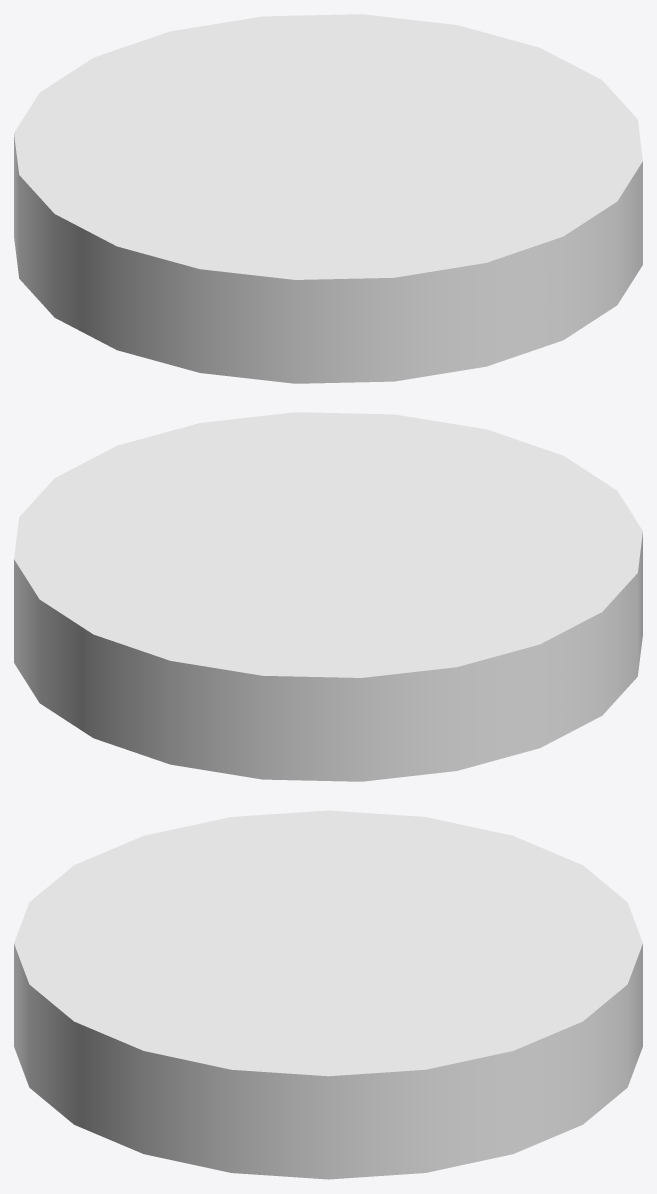
Rendered from RoundBarrierAShip.fbx.
The picture shows the model from 3 angles, top to bottom: view 1: azimuth 30°, elevation 25°; view 2: azimuth 150°, elevation 25°; view 3: azimuth 270°, elevation 25°; orthographic projection.
Parts seen in each view (by area): view 1: RoundBarrierAShip; view 2: RoundBarrierAShip; view 3: RoundBarrierAShip.
Boxes of the visible parts, x1,y1,x2,y2 form: RoundBarrierAShip: (14,14,642,383); RoundBarrierAShip: (14,412,642,781); RoundBarrierAShip: (14,810,642,1179).
Bounding box in the file's own units: 243 × 43.95 × 243.
Materials: 1 (1 with a texture image).
